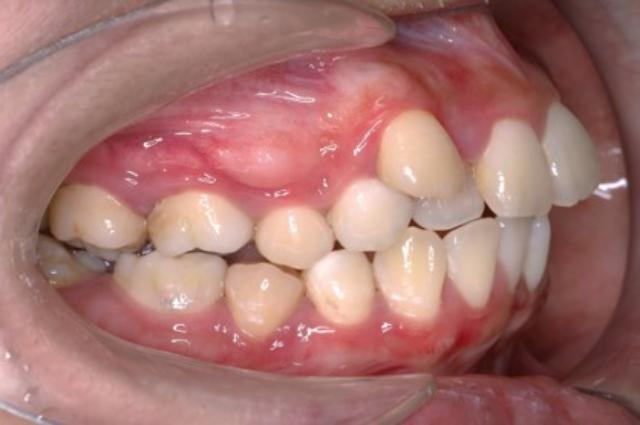molar class II full class: (112, 184, 254, 320)
